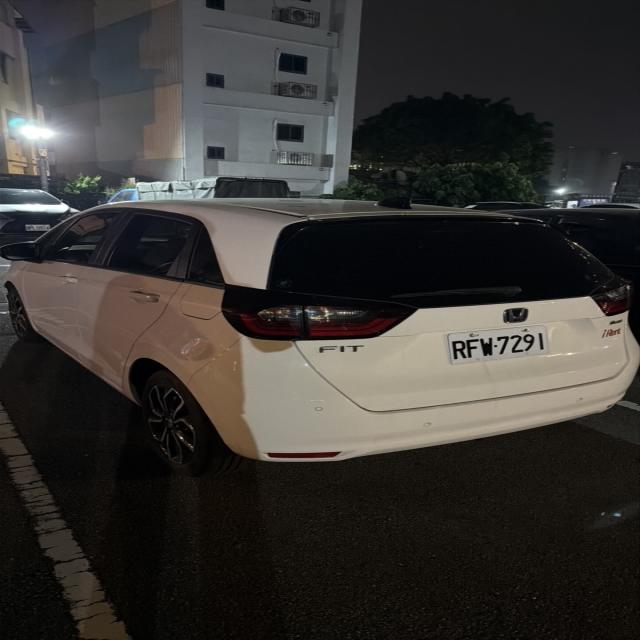license plate: (448, 326, 548, 364)
wheel: (143, 370, 239, 476)
